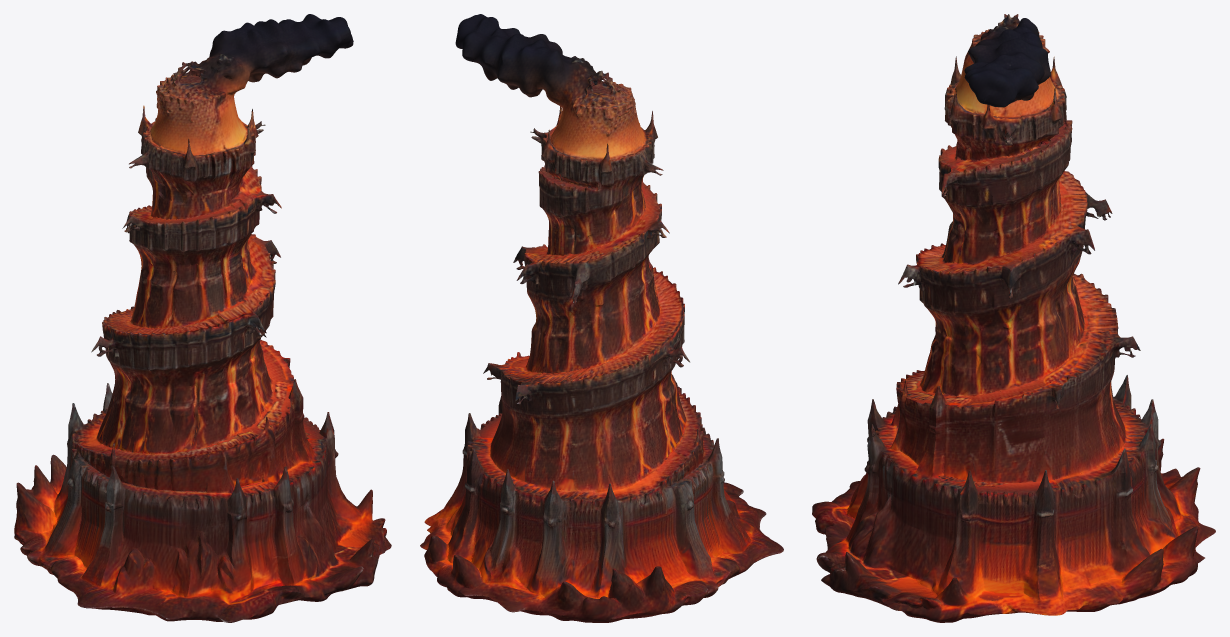
File: emberfall.glb
3 views of the same model, side by side, from view 1: azimuth 30°, elevation 25°; view 2: azimuth 150°, elevation 25°; view 3: azimuth 270°, elevation 25° (orthographic). The views are drawn at different scales.
Parts seen in each view (by area): view 1: model; view 2: model; view 3: model.
Part boxes in pixels (<box>): model: <box>14,14,391,622</box>; model: <box>420,14,783,622</box>; model: <box>812,14,1215,622</box>.
Bounding box in the file's own units: 1.2 × 1.9 × 1.27.
Materials: 1 (1 with a texture image).
